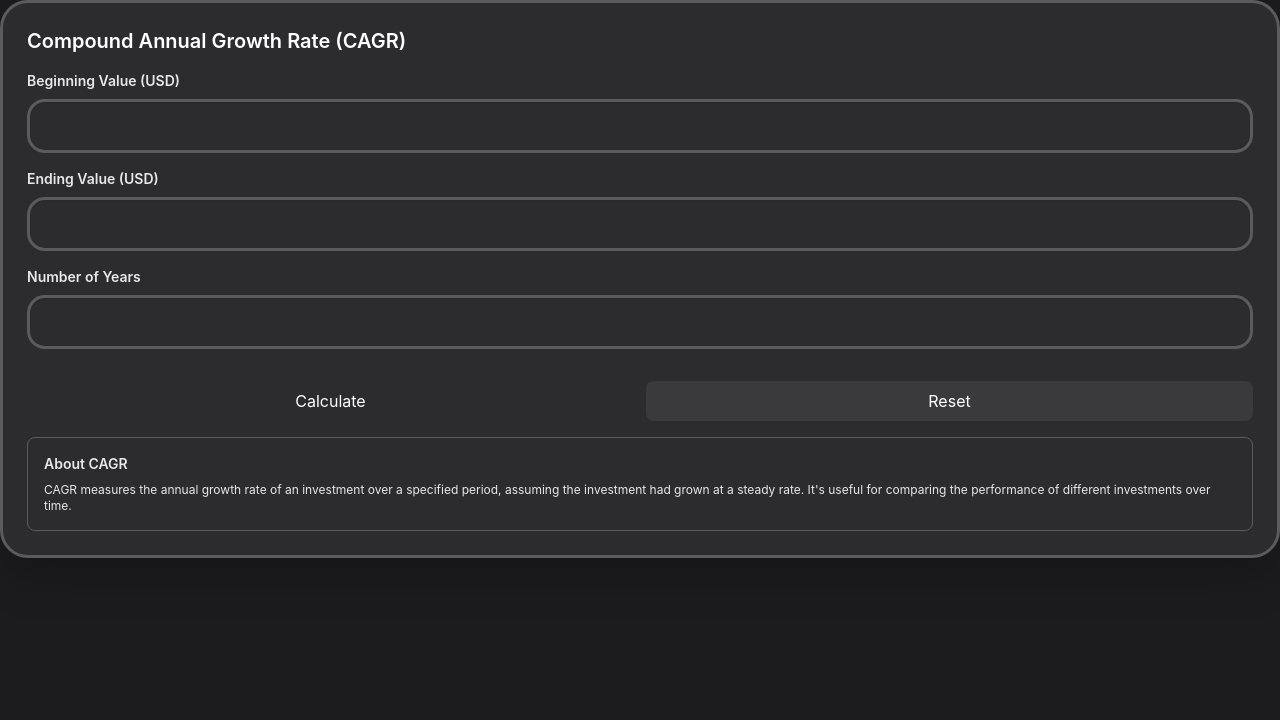
Test: CAGRCalculator › accepts user input and displays CAGR result
Type "1000" into the field labelled "Beginning Value (USD)". click: (640, 126)
box: left=27, top=99, right=1253, bottom=153
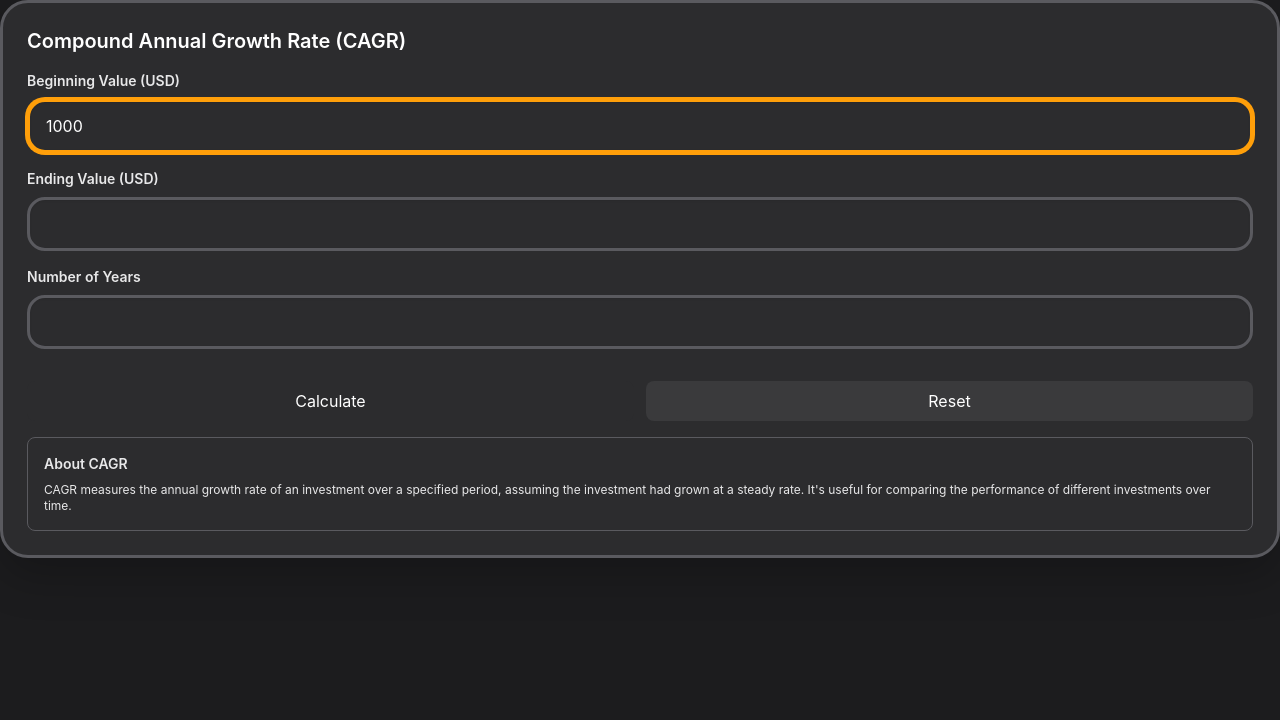
Type "2000" into the field labelled "Ending Value (USD)". click: (640, 224)
box: left=27, top=197, right=1253, bottom=251
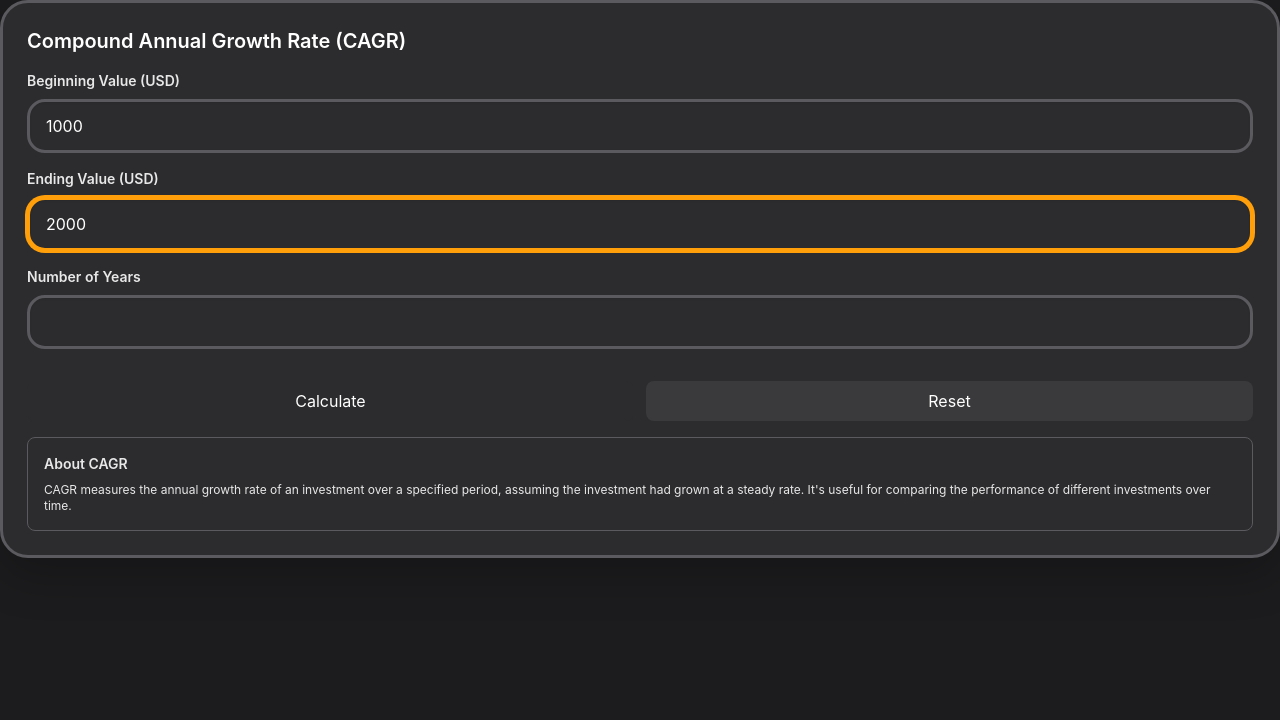
Type "10" into the field labelled "Number of Years". click: (640, 322)
box: left=27, top=295, right=1253, bottom=349
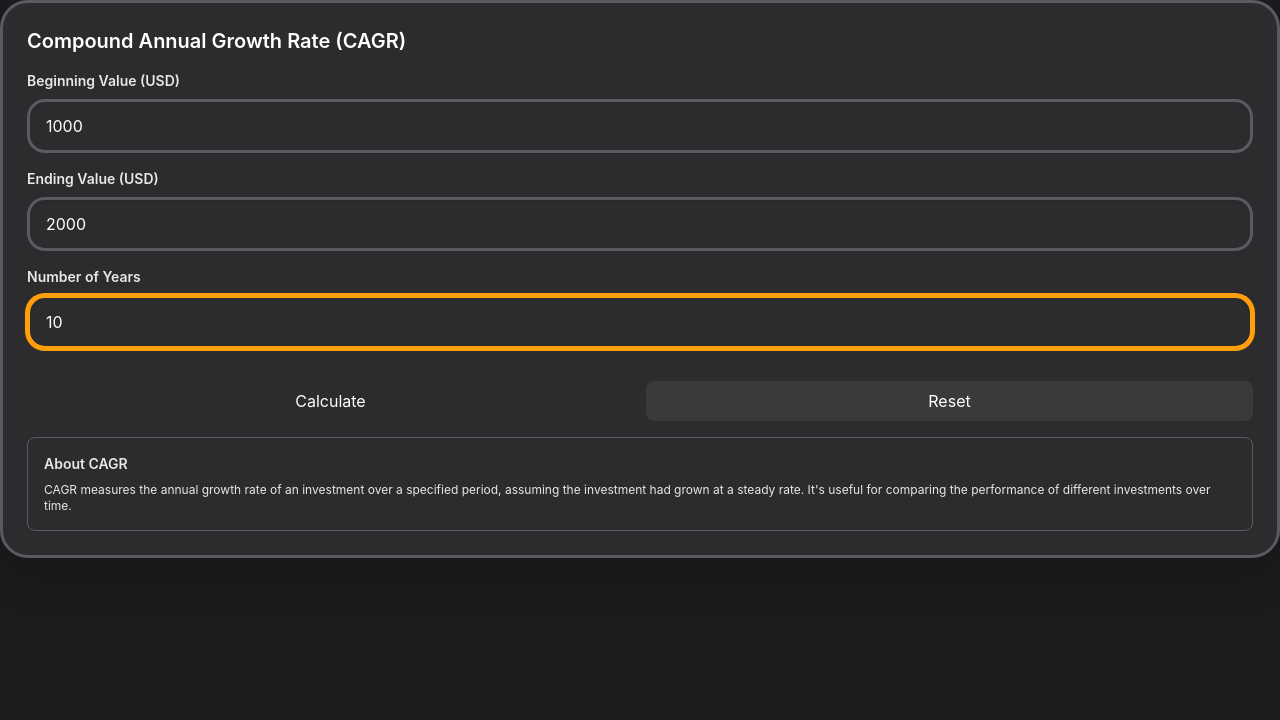
Click the button "Calculate". click: (330, 401)
box: left=27, top=381, right=634, bottom=421
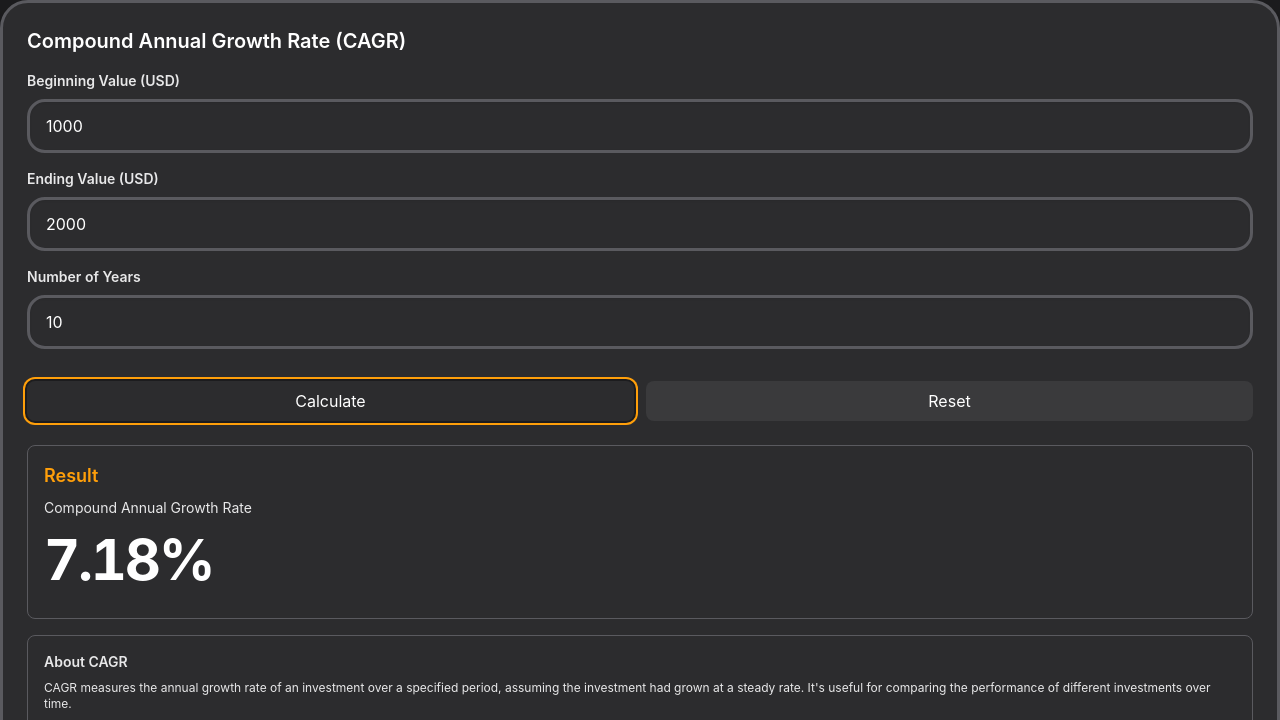
Expected: the heading "Result" is shown, left=44, top=465, right=98, bottom=486
Expected: the text "Compound Annual Growth Rate" is shown, left=44, top=499, right=252, bottom=516
Expected: the text "7.18%" is shown, left=44, top=526, right=213, bottom=594
